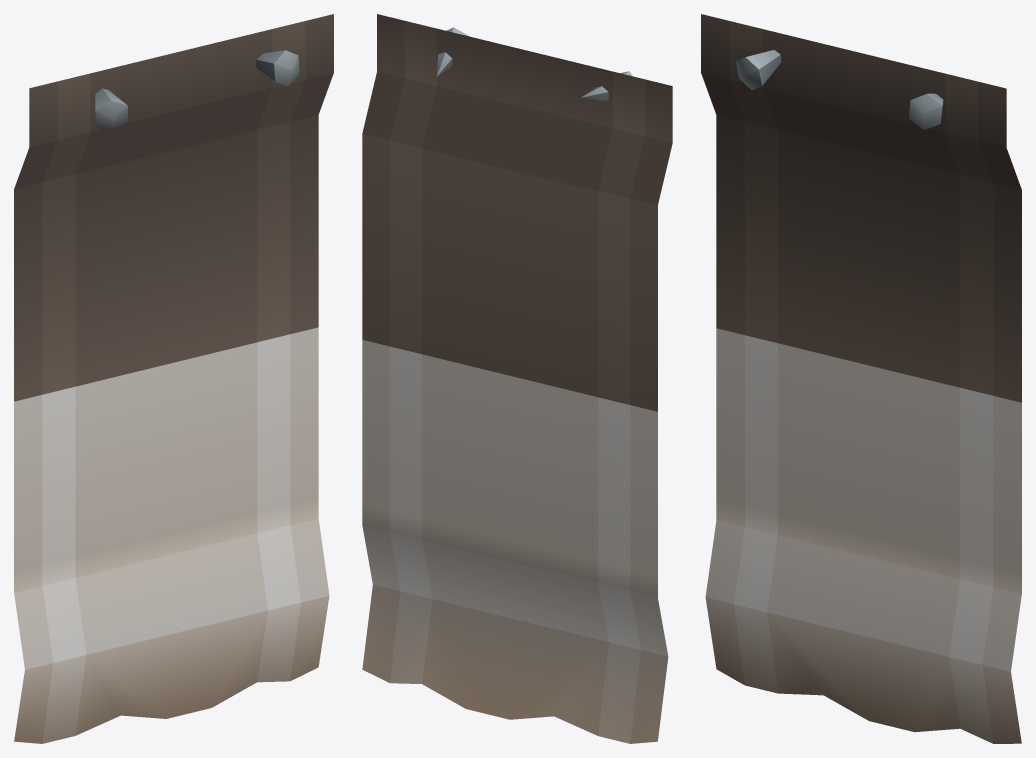
File: banner_patternC_white.gltf
3 views of the same model, side by side, from view 1: azimuth 30°, elevation 25°; view 2: azimuth 150°, elevation 25°; view 3: azimuth 330°, elevation 25° (orthographic). The views are drawn at different scales.
Parts seen in each view (by area): view 1: banner_patternC_white; view 2: banner_patternC_white; view 3: banner_patternC_white.
Part boxes in pixels (bbox=[...]): banner_patternC_white: bbox=[14, 14, 333, 743]; banner_patternC_white: bbox=[362, 14, 672, 743]; banner_patternC_white: bbox=[701, 14, 1021, 743].
Size of the model in its own units: 1.5 by 3.2 by 0.3119.
1 material, 1 textured.
